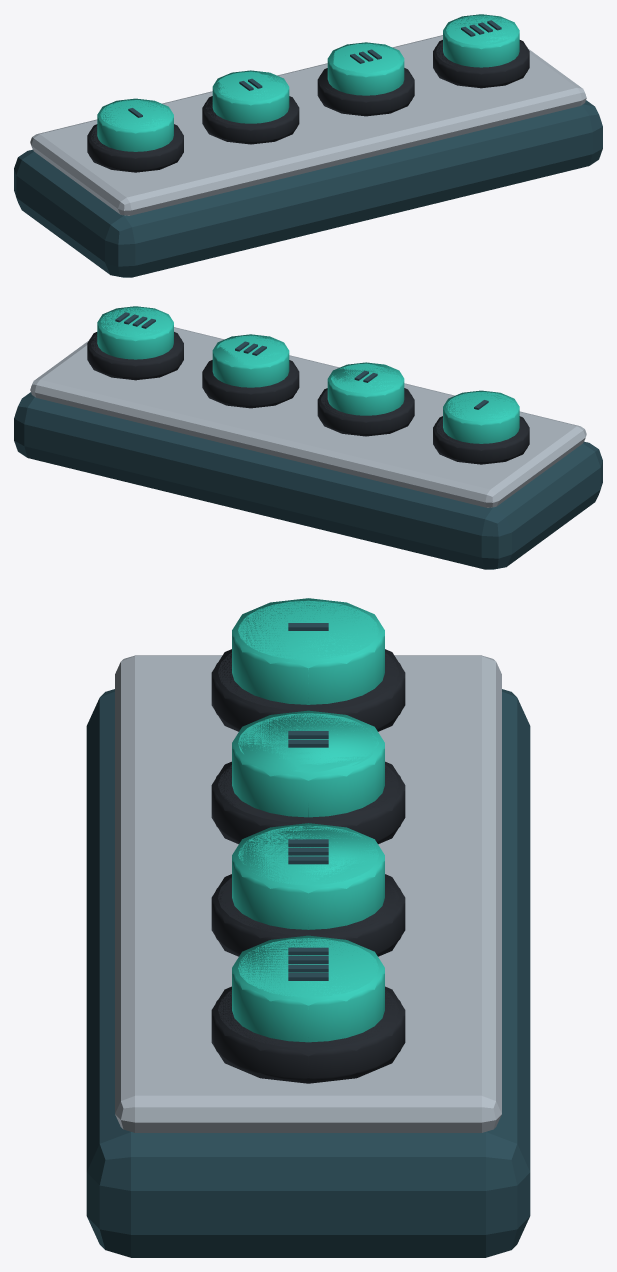
Rendered from panel-action-four.glb.
The picture shows the model from 3 angles, top to bottom: view 1: azimuth 30°, elevation 25°; view 2: azimuth 150°, elevation 25°; view 3: azimuth 270°, elevation 25°; orthographic projection. The views are drawn at different scales.
Parts seen in each view (by area): view 1: panel_shell, panel_face, cap1, cap2, cap3, cap4, socket2, socket1, socket4, socket3, socket4.001, socket3.001 (+6 smaller); view 2: panel_shell, panel_face, cap1, cap4, cap2, cap3, socket4, socket2, socket1, socket3, cap2.001, cap4.001 (+6 smaller); view 3: panel_face, panel_shell, cap1, cap4, cap3, cap2, socket4, cap2.001, cap3.001, socket1, socket3, socket2 (+6 smaller).
Boxes of the visible parts, x1,y1,x2,y2 form: panel_shell: [14, 100, 602, 277]; panel_face: [30, 35, 586, 215]; cap1: [97, 100, 173, 151]; cap2: [212, 71, 289, 123]; cap3: [327, 43, 404, 95]; cap4: [443, 15, 519, 67]; socket2: [202, 100, 299, 142]; socket1: [87, 126, 183, 170]; socket4: [433, 41, 529, 86]; socket3: [317, 70, 414, 114]; socket4.001: [433, 40, 529, 88]; socket3.001: [317, 68, 414, 116]; panel_shell: [14, 392, 602, 569]; panel_face: [30, 327, 586, 507]; cap1: [443, 392, 519, 443]; cap4: [97, 307, 173, 359]; cap2: [327, 363, 404, 415]; cap3: [212, 335, 289, 387]; socket4: [87, 333, 183, 378]; socket2: [317, 390, 414, 434]; socket1: [433, 418, 529, 462]; socket3: [202, 362, 299, 406]; cap2.001: [327, 362, 404, 397]; cap4.001: [97, 306, 173, 341]; panel_face: [115, 655, 501, 1132]; panel_shell: [86, 689, 530, 1257]; cap1: [232, 600, 384, 704]; cap4: [232, 938, 384, 1042]; cap3: [232, 825, 384, 929]; cap2: [232, 713, 384, 817]; socket4: [211, 990, 405, 1080]; cap2.001: [232, 710, 384, 816]; cap3.001: [232, 823, 384, 915]; socket1: [211, 652, 405, 730]; socket3: [211, 877, 405, 955]; socket2: [211, 765, 405, 843].
Bounding box in the file's own units: 0.284 × 0.0655 × 0.11.
